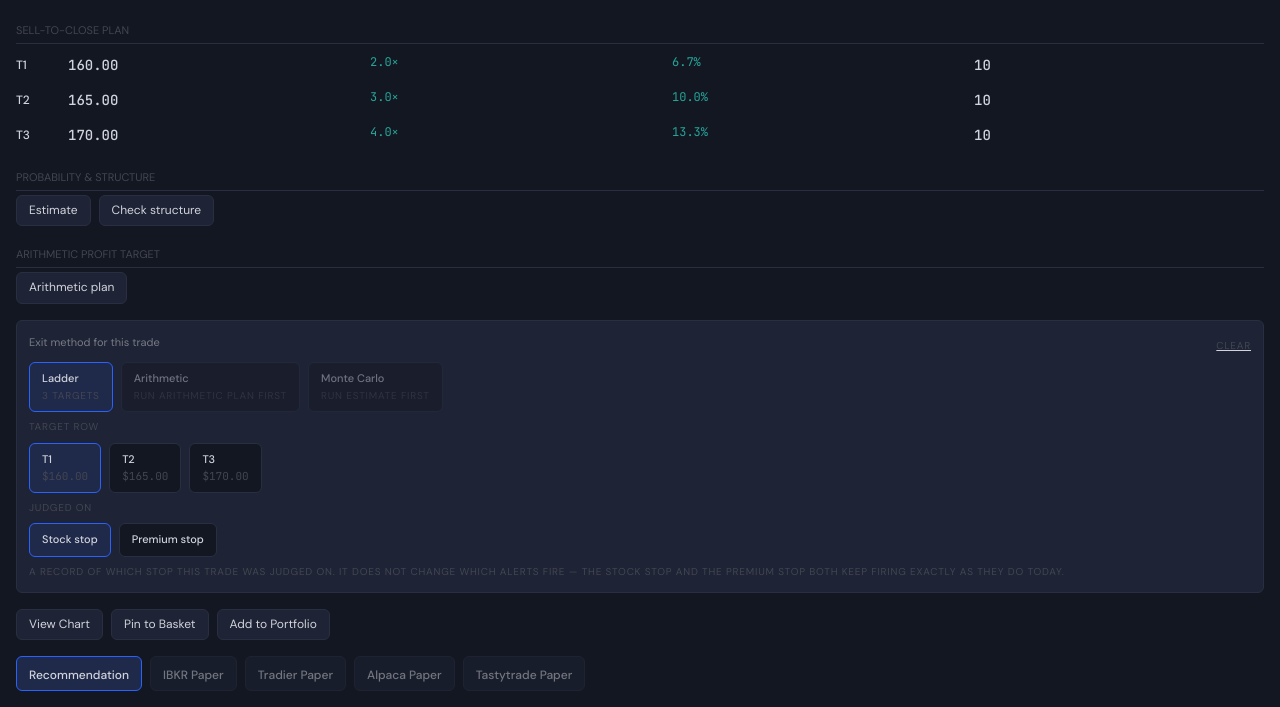
StockPositionCard — Add to Portfolio outcome states › shows "Added to Portfolio" (disabled) when the backend confirms the save
(page scrolled)
Click the button "Add to Portfolio". click: (273, 624)
box: 216,609 -> 330,640
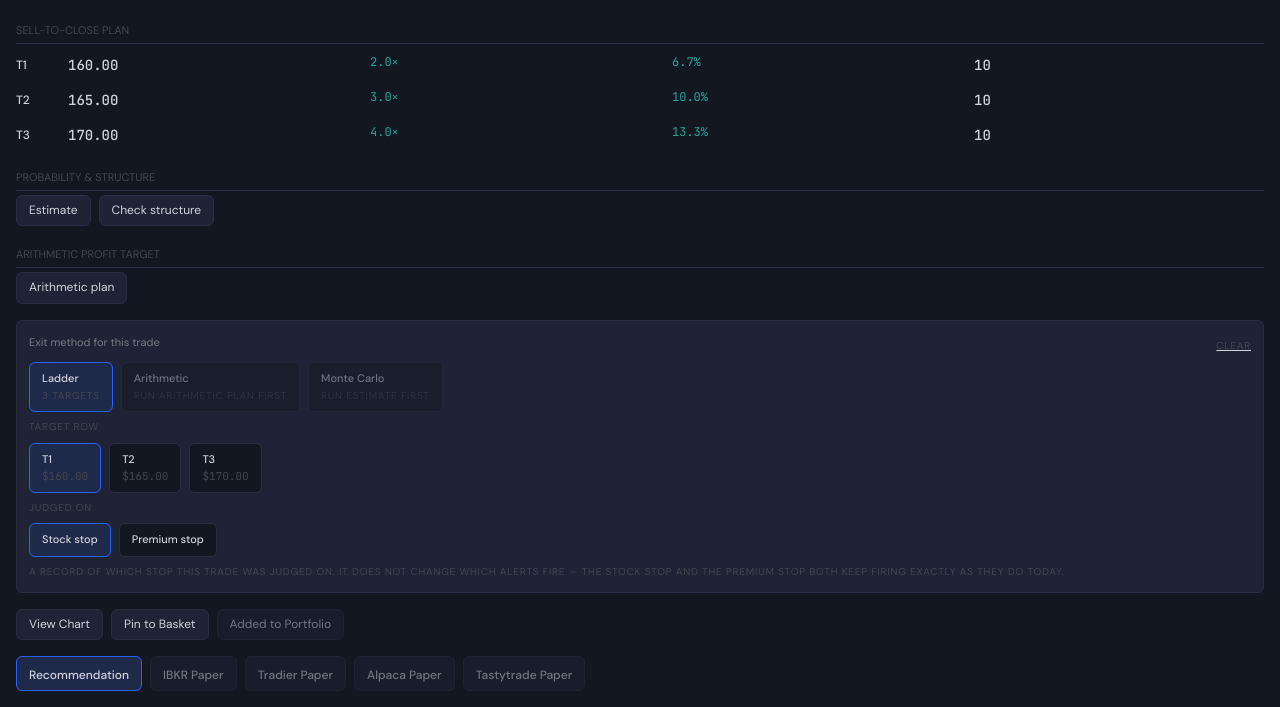
Expected: the text "Added to Portfolio" is shown, 230,616 -> 331,633
Expected: the button "Added to Portfolio" is disabled, 216,609 -> 344,640
